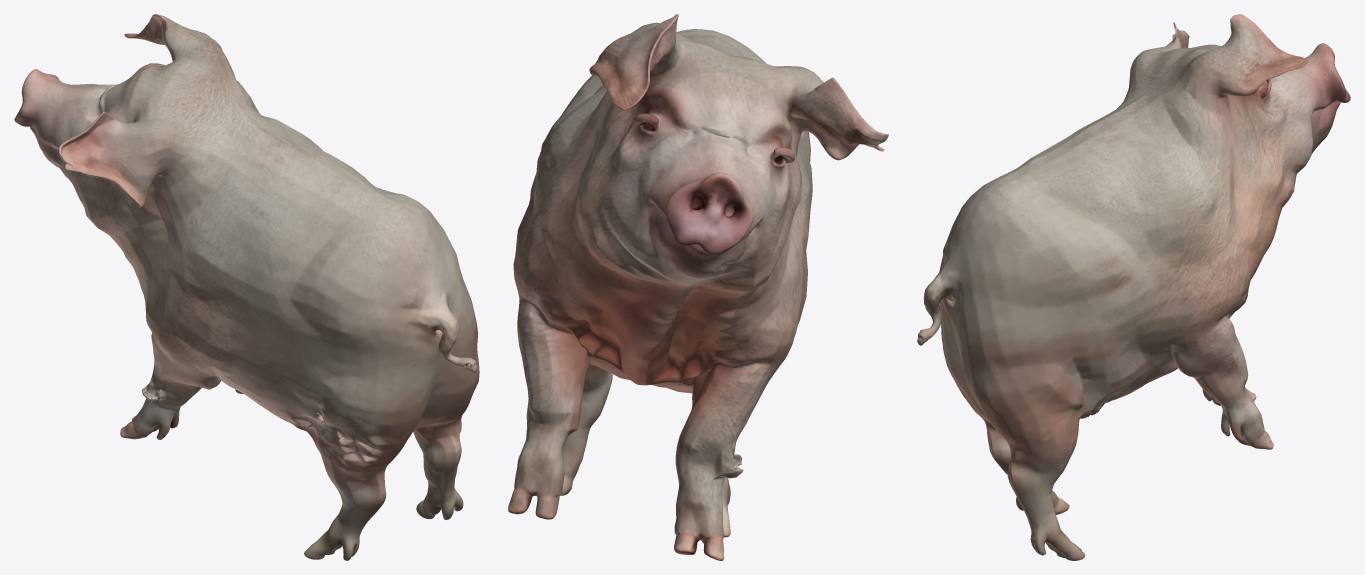
The model's file is pixal3d.glb.
3 views of the same model, side by side, from view 1: azimuth 30°, elevation 25°; view 2: azimuth 150°, elevation 25°; view 3: azimuth 270°, elevation 25° (orthographic). The views are drawn at different scales.
Parts seen in each view (by area): view 1: world; view 2: world; view 3: world.
Boxes of the visible parts, x1,y1,x2,y2 form: world: (14,14,479,560); world: (508,14,888,560); world: (917,14,1350,560).
Size of the model in its own units: 0.631 by 0.8866 by 0.7465.
1 material, 1 textured.
